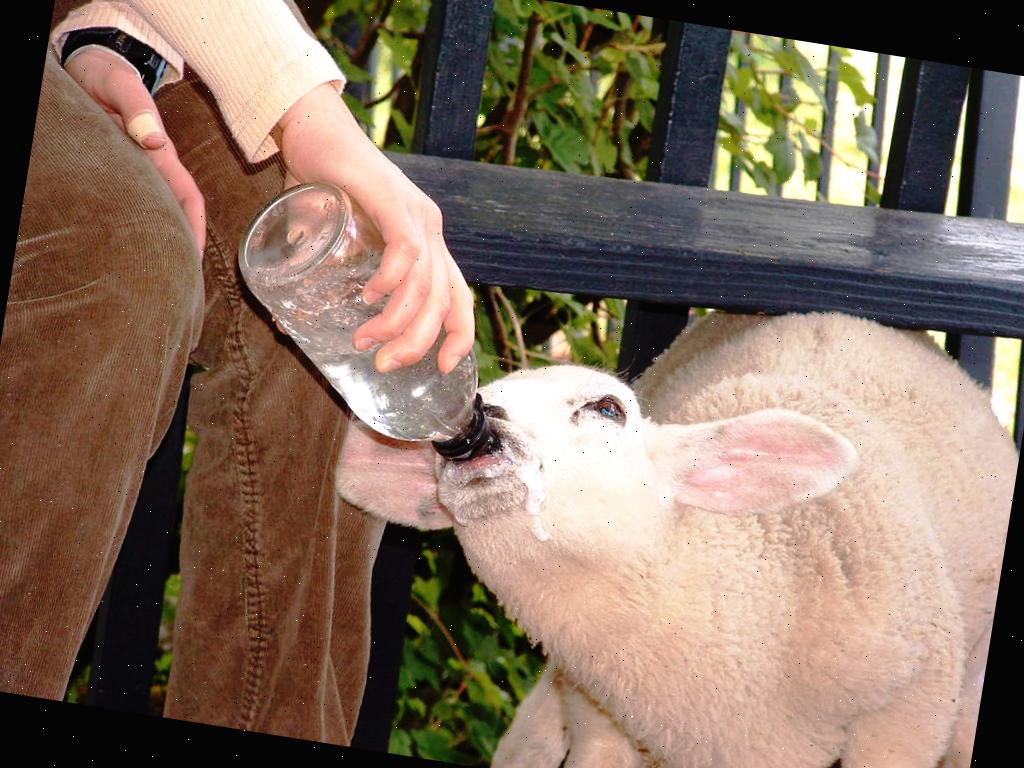Sheep: (260, 223, 1024, 768)
